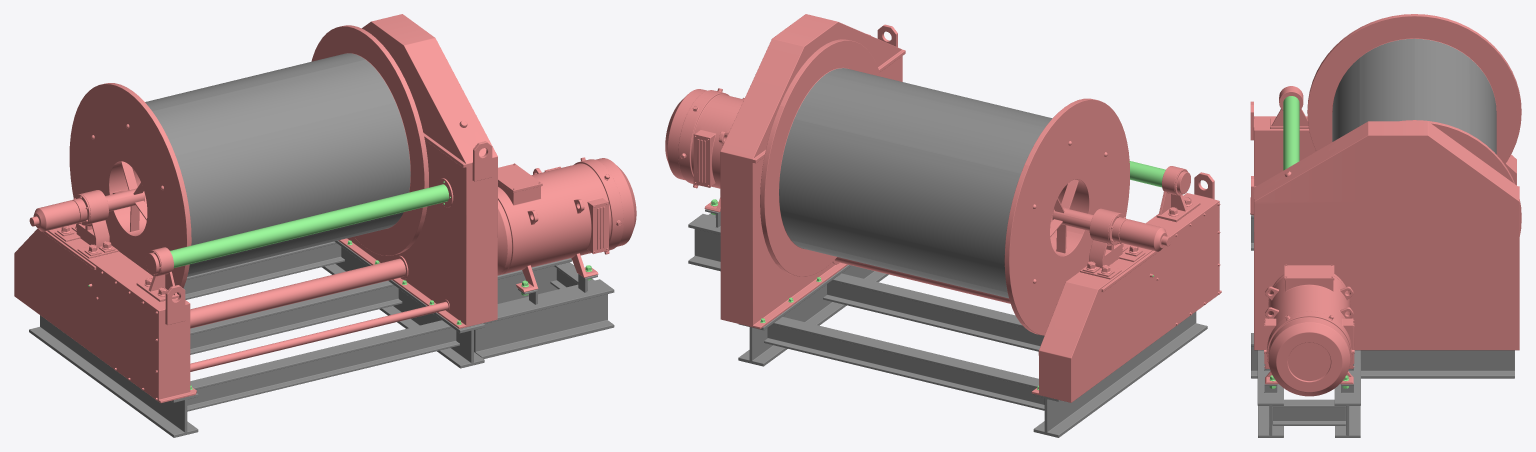
File: SM_Lebetka.gltf
The picture shows the model from 3 angles, left to right: view 1: azimuth 30°, elevation 25°; view 2: azimuth 150°, elevation 25°; view 3: azimuth 270°, elevation 25°; orthographic projection. The views are drawn at different scales.
Visible parts, largest first — view 1: SM_Lebetka; view 2: SM_Lebetka; view 3: SM_Lebetka.
Part boxes in pixels (x1=…): SM_Lebetka: x1=14, y1=14, x2=636, y2=437; SM_Lebetka: x1=665, y1=14, x2=1221, y2=437; SM_Lebetka: x1=1250, y1=14, x2=1521, y2=437.
Bounding box in the file's own units: 2.86 × 1.42 × 1.39.
